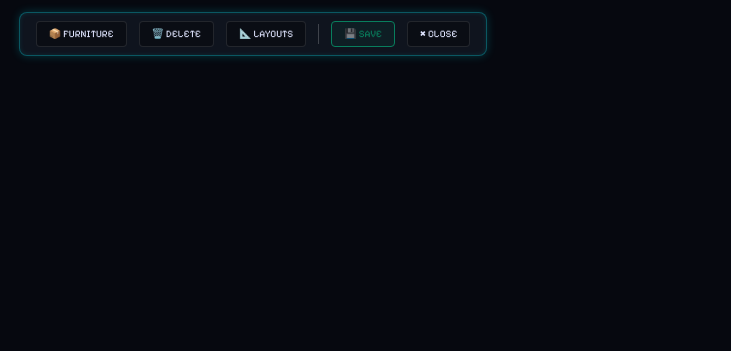
Issue #109 — delete confirmation guard › gives the Load button an accessible name beyond the folder emoji
This screenshot has width=731, height=351.
Click the button titled "Layout manager": [266, 34] box 226,21 -> 306,47
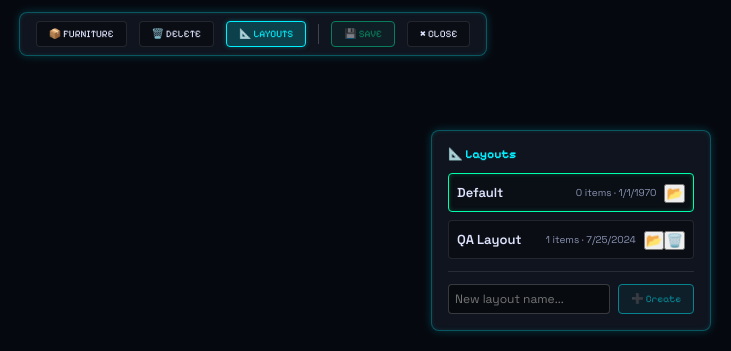
Expected: the button named "Load QA Layout" is shown, 644,231 -> 664,250
